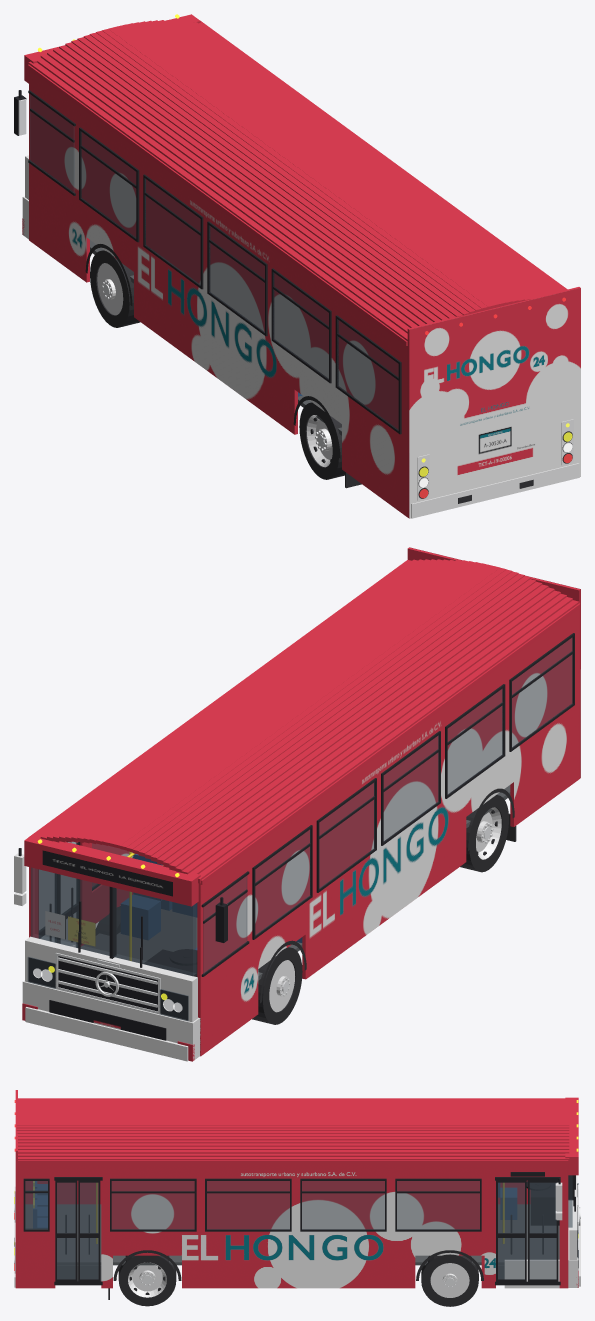
Rendered from bus_hongo.glb.
The picture shows the model from 3 angles, top to bottom: view 1: azimuth 30°, elevation 25°; view 2: azimuth 150°, elevation 25°; view 3: azimuth 270°, elevation 25°; orthographic projection. The views are drawn at different scales.
Parts seen in each view (by area): view 1: Bus_Techo_Curvo, Bus_Textura_Costado_Izquierdo, Bus_Textura_Trasera, Bus_Ventaneria_Vidrios, Bus_Marcos_Canceleria, Bus_Neumaticos_PBR, Bus_Carroceria_Roja, Bus_Defensa_Trasera_Blanca, Bus_Rines_Blancos; view 2: Bus_Techo_Curvo, Bus_Textura_Costado_Izquierdo, Bus_Ventaneria_Vidrios, Bus_Parabrisas_Panoramico, Bus_Fascia_Frontal_Blanca, Bus_Marcos_Canceleria, Bus_Carroceria_Roja, Bus_Parrilla_Fondo_Negro, Bus_Fascia_Esquinas_Rojas, Bus_Neumaticos_PBR, Bus_Rutero_Cartulinas, Bus_Interior_Piso (+4 smaller); view 3: Bus_Textura_Costado_Derecho, Bus_Techo_Curvo, Bus_Ventaneria_Vidrios, Bus_Marcos_Canceleria, Bus_Interior_Piso, Bus_Carroceria_Roja, Bus_Neumaticos_PBR, Bus_Fascia_Frontal_Blanca, Bus_Rines_Blancos, Bus_Interior_Asientos_30, Bus_Interior_Tablero_Chofer, Bus_Fascia_Esquinas_Rojas (+2 smaller).
Part boxes in pixels (x1,y1,x2,y2): Bus_Techo_Curvo: (28,19,567,340); Bus_Textura_Costado_Izquierdo: (29,70,407,517); Bus_Textura_Trasera: (409,288,580,518); Bus_Ventaneria_Vidrios: (30,94,398,429); Bus_Marcos_Canceleria: (28,90,401,434); Bus_Neumaticos_PBR: (90,250,572,503); Bus_Carroceria_Roja: (28,64,580,518); Bus_Defensa_Trasera_Blanca: (411,419,579,518); Bus_Rines_Blancos: (97,263,332,467); Bus_Techo_Curvo: (29,559,579,883); Bus_Textura_Costado_Izquierdo: (201,609,579,1055); Bus_Ventaneria_Vidrios: (39,637,572,973); Bus_Parabrisas_Panoramico: (27,867,196,1021); Bus_Fascia_Frontal_Blanca: (14,853,200,1061); Bus_Marcos_Canceleria: (39,633,574,976); Bus_Carroceria_Roja: (29,547,580,1056); Bus_Parrilla_Fondo_Negro: (18,848,227,1040); Bus_Fascia_Esquinas_Rojas: (22,834,200,1061); Bus_Neumaticos_PBR: (96,795,516,1024); Bus_Rutero_Cartulinas: (42,850,172,1029); Bus_Interior_Piso: (81,785,510,980); Bus_Textura_Costado_Derecho: (18,1164,568,1288); Bus_Techo_Curvo: (16,1098,569,1162); Bus_Ventaneria_Vidrios: (25,1181,556,1279); Bus_Marcos_Canceleria: (23,1172,560,1285); Bus_Interior_Piso: (25,1204,559,1280); Bus_Carroceria_Roja: (15,1090,568,1288); Bus_Neumaticos_PBR: (14,1238,478,1306); Bus_Fascia_Frontal_Blanca: (504,1175,580,1288); Bus_Rines_Blancos: (128,1262,469,1297); Bus_Interior_Asientos_30: (33,1181,516,1228); Bus_Interior_Tablero_Chofer: (526,1181,559,1225); Bus_Fascia_Esquinas_Rojas: (565,1097,578,1287).
Size of the model in its own units: 3.06 by 3.02 by 9.84.
Materials: 18 (4 with a texture image).
